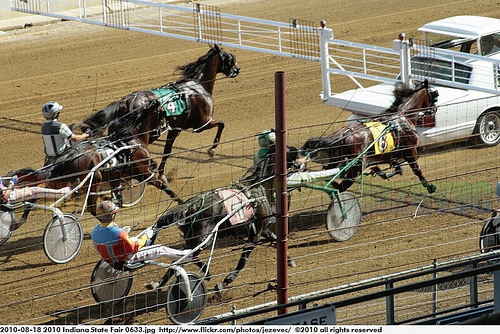horse: (4, 96, 188, 233), (75, 41, 242, 190), (145, 141, 306, 293), (298, 77, 443, 201)
